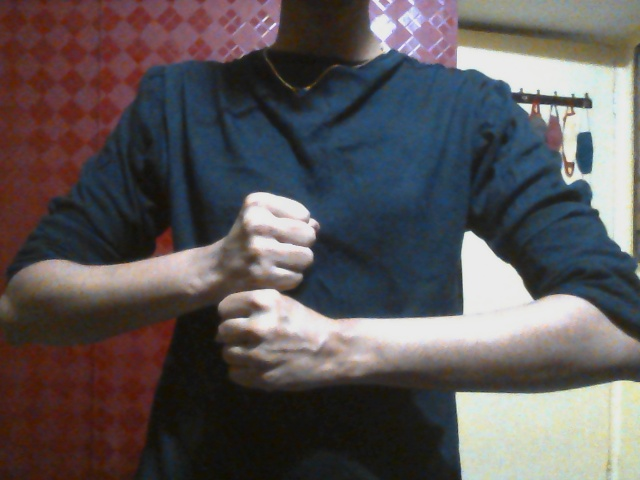G: (213, 190, 332, 395)
